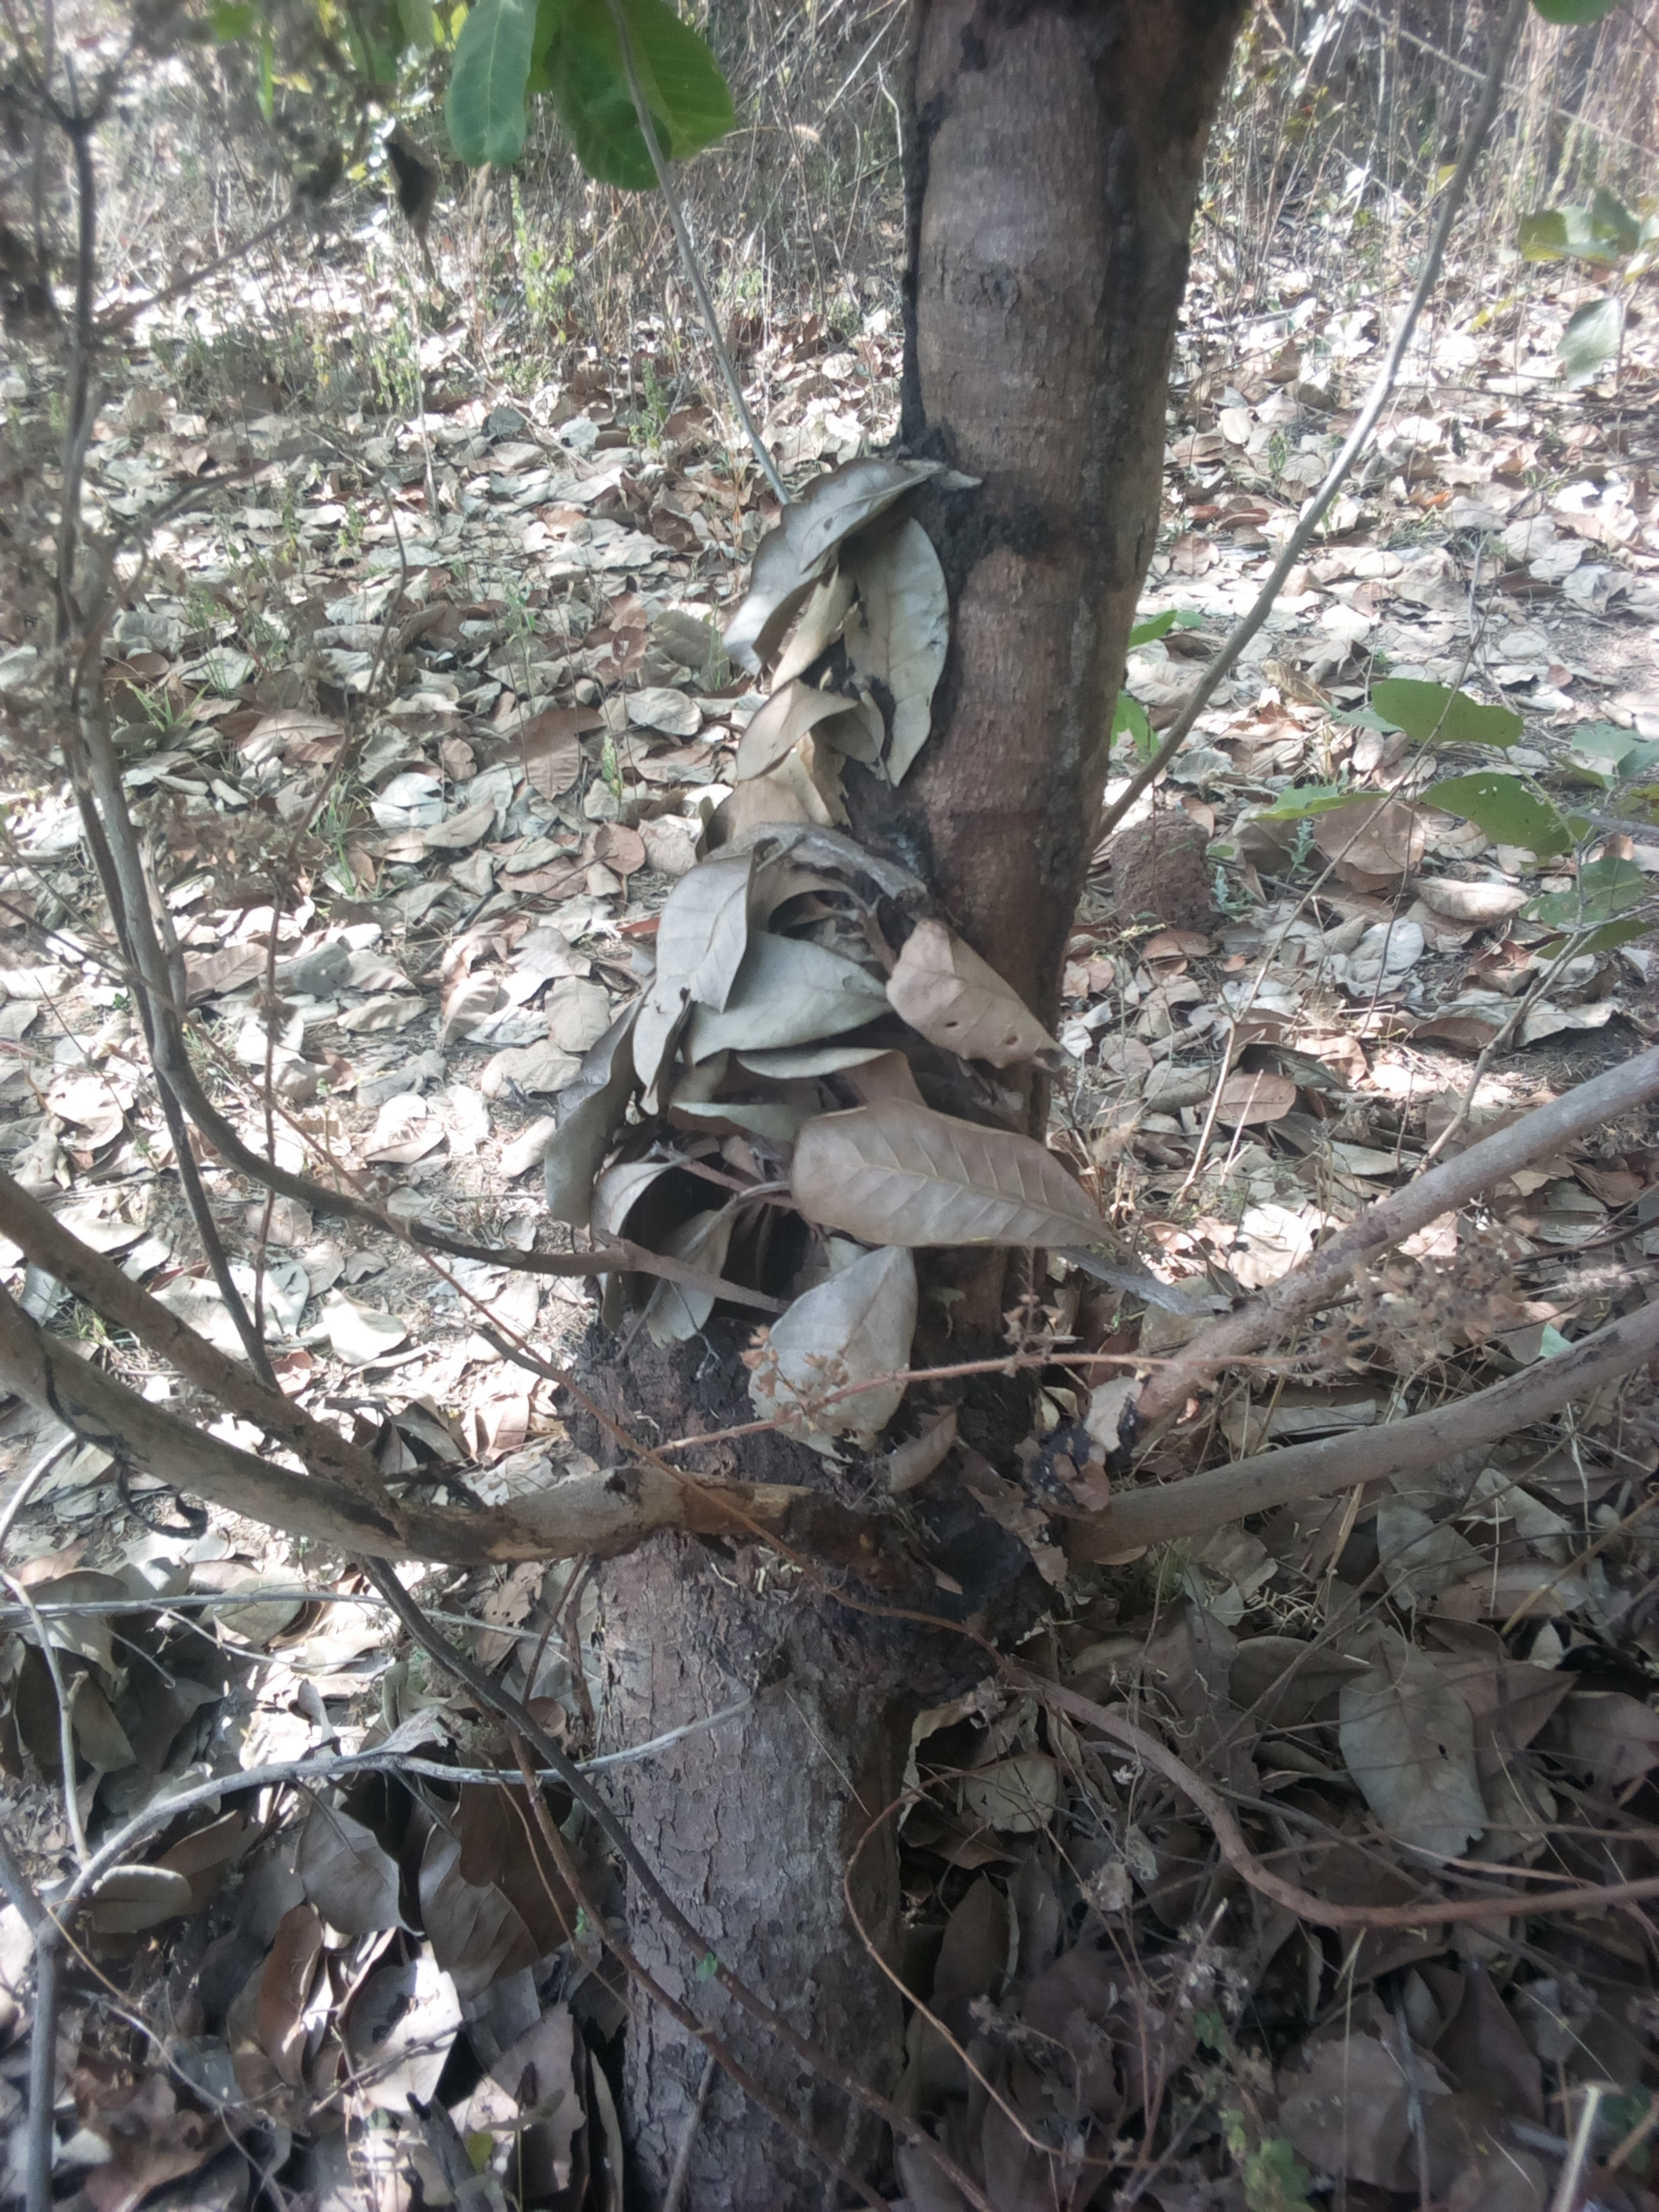Termites: (1049, 110, 1155, 841)
